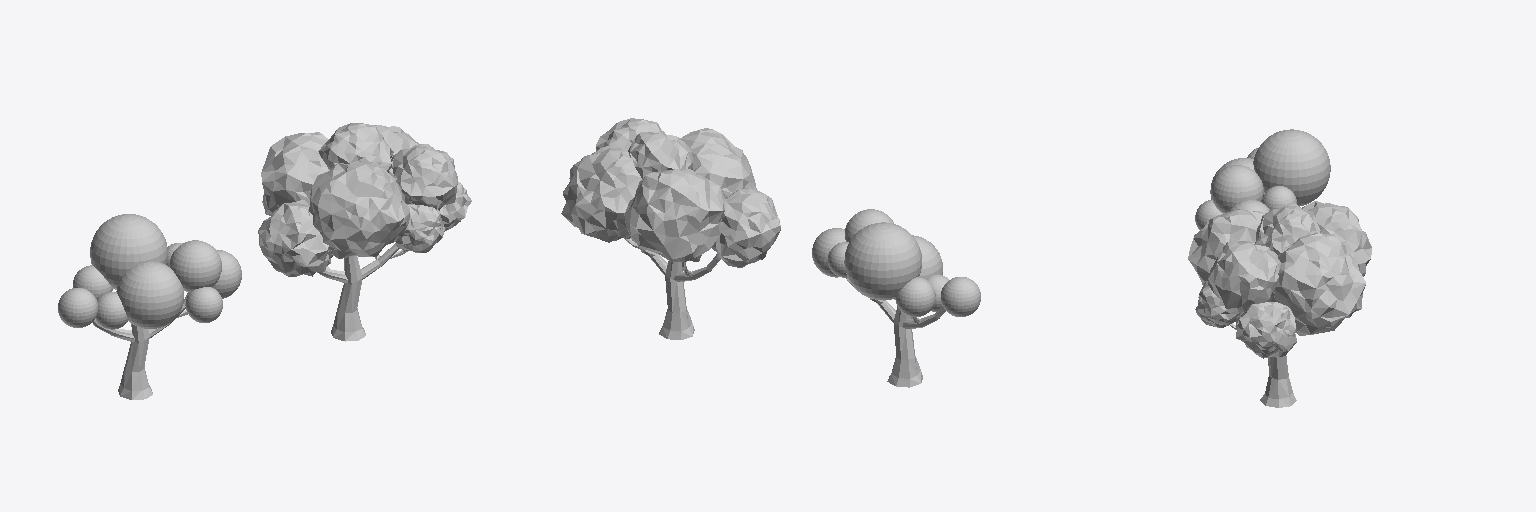
Rendered from TREE.obj.
The picture shows the model from 3 angles: view 1: azimuth 30°, elevation 25°; view 2: azimuth 150°, elevation 25°; view 3: azimuth 270°, elevation 25°; orthographic projection.
Visible parts, largest first — view 1: Tree.015, Tree.013, Tree.014, Sphere.022, Sphere.045, Tree.029, Tree.003, Tree.019, Tree.032, Sphere.043, Tree.030, Sphere.029 (+6 smaller); view 2: Tree.014, Tree.016, Sphere.022, Tree.013, Tree.015, Tree.003, Tree.032, Tree.019, Sphere.029, Sphere.038, Tree.029, Sphere.042 (+2 smaller); view 3: Tree.016, Sphere.022, Tree.029, Tree.018, Tree.015, Tree.014, Tree.019, Sphere.043, Tree.003, Tree.030, Sphere.046.
Boxes of the visible parts, x1,y1,x2,y2 form: Tree.015: [309, 162, 409, 258]; Tree.013: [258, 200, 332, 276]; Tree.014: [261, 132, 329, 215]; Sphere.022: [90, 214, 167, 289]; Sphere.045: [116, 261, 183, 328]; Tree.029: [388, 144, 457, 210]; Tree.003: [317, 243, 407, 341]; Tree.019: [318, 123, 393, 171]; Tree.032: [92, 292, 189, 399]; Sphere.043: [169, 240, 221, 291]; Tree.030: [396, 204, 444, 252]; Sphere.029: [58, 288, 97, 327]; Tree.014: [624, 169, 724, 261]; Tree.016: [561, 144, 641, 242]; Sphere.022: [844, 222, 921, 300]; Tree.013: [711, 188, 780, 267]; Tree.015: [680, 128, 756, 198]; Tree.003: [624, 238, 720, 339]; Tree.032: [846, 278, 945, 387]; Tree.019: [628, 132, 692, 178]; Sphere.029: [941, 277, 980, 316]; Sphere.038: [895, 277, 935, 316]; Tree.029: [596, 118, 665, 150]; Sphere.042: [812, 228, 845, 277]; Tree.016: [1271, 233, 1365, 335]; Sphere.022: [1253, 129, 1330, 206]; Tree.029: [1208, 241, 1281, 313]; Tree.018: [1236, 302, 1296, 358]; Tree.015: [1188, 208, 1265, 285]; Tree.014: [1302, 201, 1371, 276]; Tree.019: [1254, 203, 1320, 254]; Sphere.043: [1211, 165, 1263, 213]; Tree.003: [1230, 323, 1296, 407]; Tree.030: [1195, 281, 1241, 327]; Sphere.046: [1262, 186, 1296, 209].
Size of the model in its own units: 16.24 by 7.62 by 6.38.